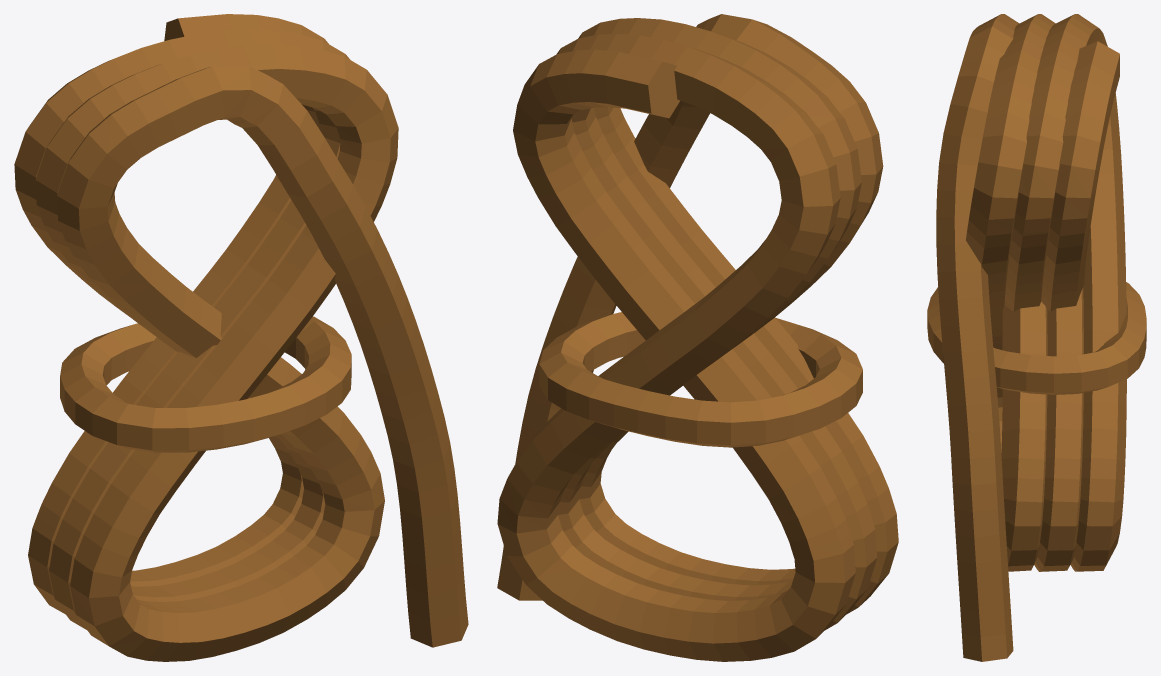
The model's file is simulated_rope_coupling.obj.
3 renders of one model, left to right at view 1: azimuth 30°, elevation 25°; view 2: azimuth 150°, elevation 25°; view 3: azimuth 270°, elevation 25°, orthographic. The views are drawn at different scales.
Parts seen in each view (by area): view 1: continuous_rope, binding; view 2: continuous_rope, binding; view 3: continuous_rope, binding.
Boxes of the visible parts, x1=… form: continuous_rope: x1=14, y1=14, x2=468, y2=661; binding: x1=60, y1=316, x2=351, y2=452; continuous_rope: x1=497, y1=14, x2=898, y2=661; binding: x1=539, y1=312, x2=862, y2=447; continuous_rope: x1=936, y1=14, x2=1126, y2=661; binding: x1=927, y1=282, x2=1146, y2=394.
Size of the model in its own units: 0.3989 by 0.609 by 0.2254.
